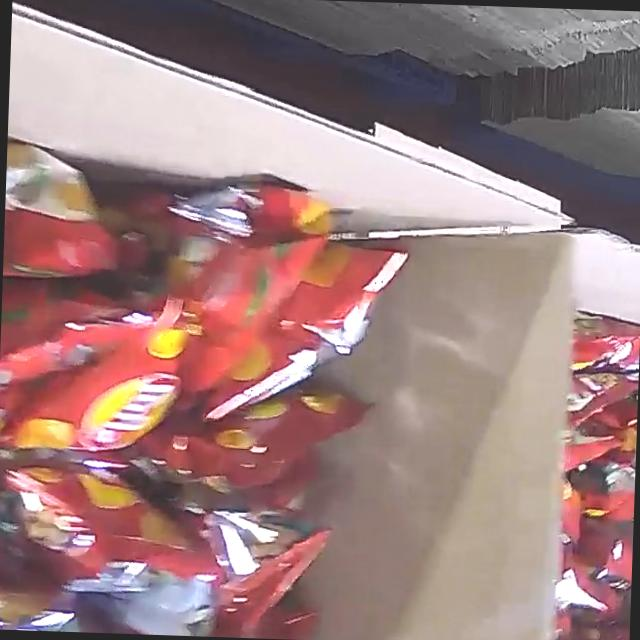masala: (0, 115, 412, 640), (557, 321, 640, 640)
